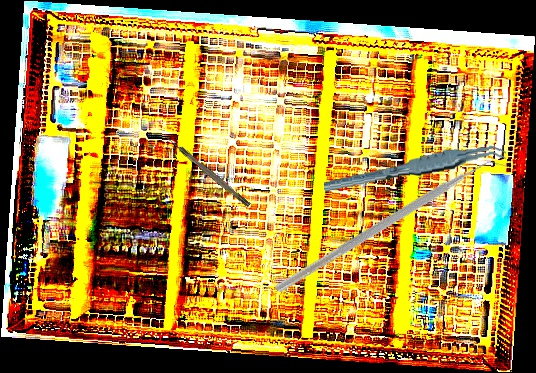Chopper: (273, 96, 513, 361)
Hook Surgical: (165, 134, 251, 209)
Tissue Forceps: (321, 144, 509, 193)
